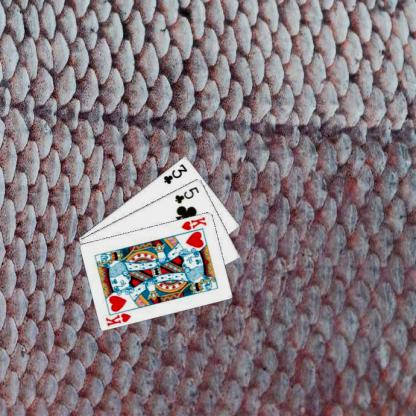3C: (161, 161, 189, 185)
5C: (173, 184, 200, 205)
KH: (103, 310, 133, 327), (179, 214, 207, 232)
